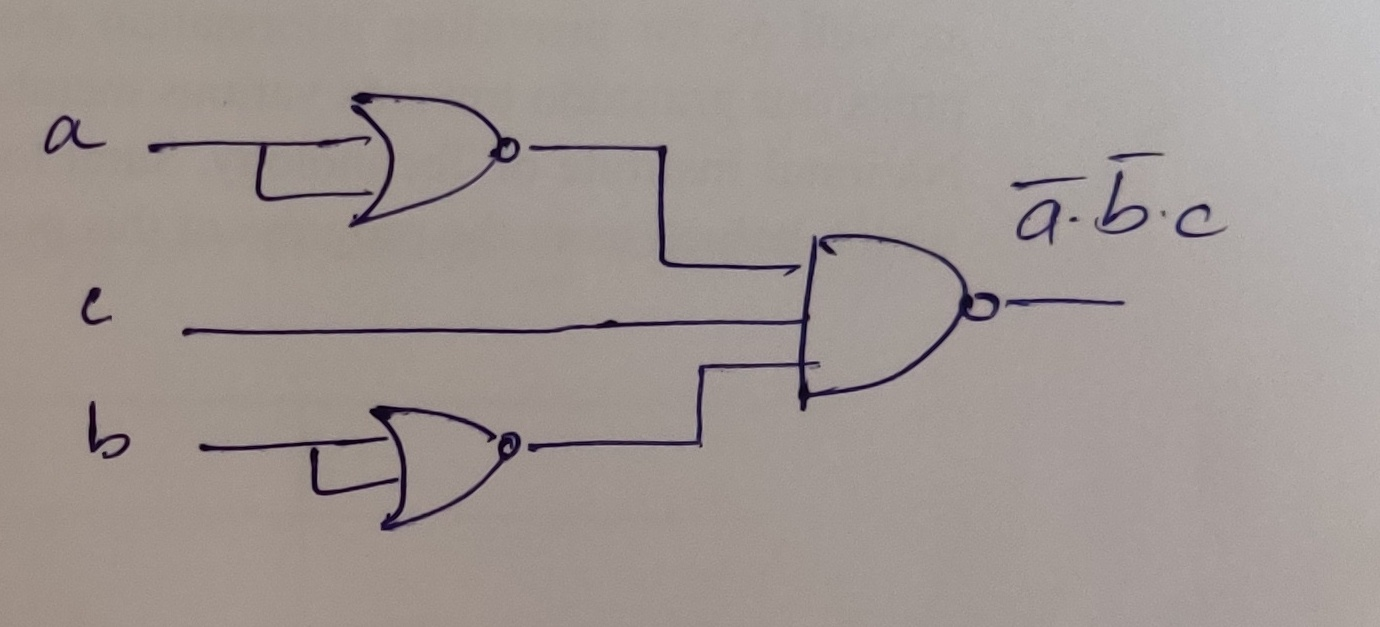nand: (752, 215, 1014, 428)
nor: (321, 74, 542, 247), (343, 391, 558, 550)
